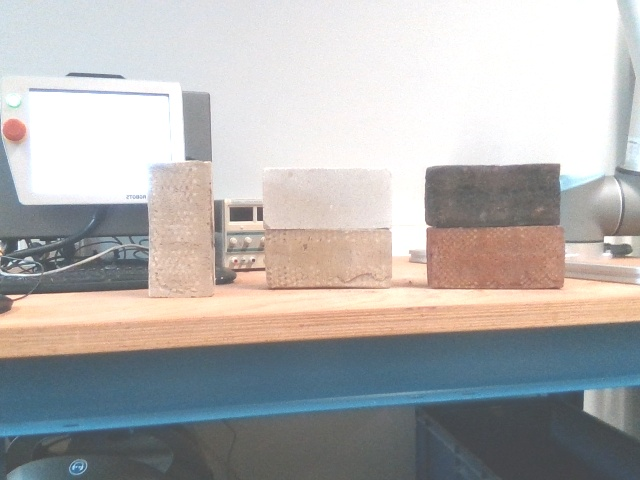brick: (148, 163, 207, 296), (427, 229, 560, 288), (264, 169, 388, 230), (426, 167, 556, 225), (266, 232, 390, 285)
